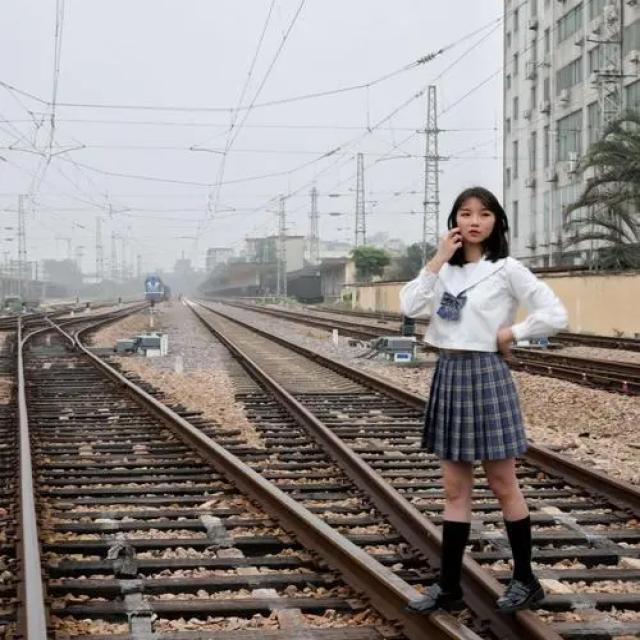people: (410, 184, 565, 600)
